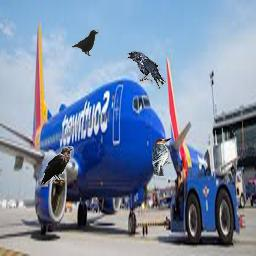Crow: (126, 51, 166, 89), (39, 146, 74, 186), (72, 29, 99, 56)
Woodpecker: (151, 136, 172, 176)
